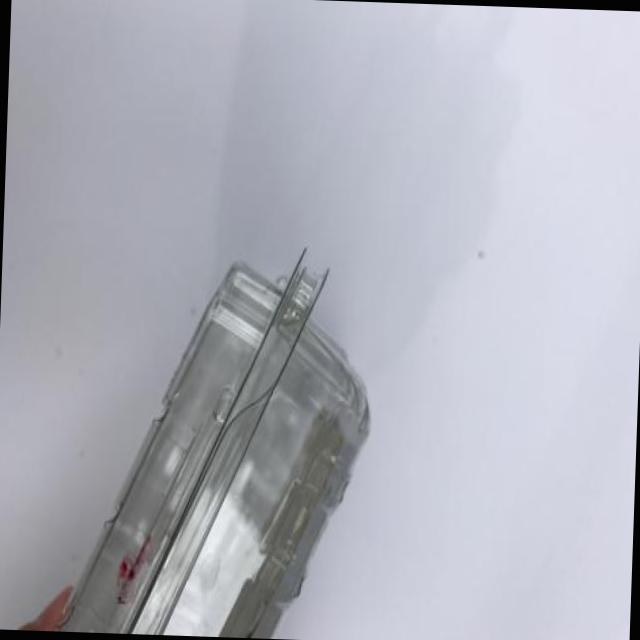plastic: (101, 268, 364, 640)
